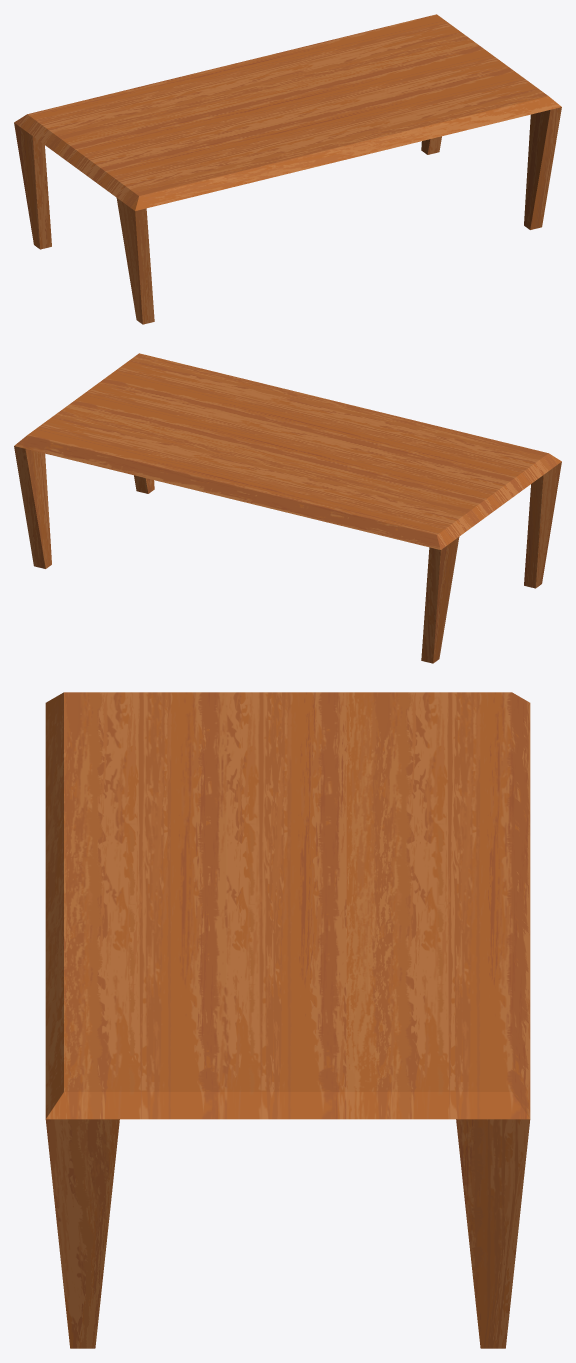
Rendered from Table.fbx.
The picture shows the model from 3 angles, top to bottom: view 1: azimuth 30°, elevation 25°; view 2: azimuth 150°, elevation 25°; view 3: azimuth 270°, elevation 25°; orthographic projection. The views are drawn at different scales.
Parts seen in each view (by area): view 1: Table; view 2: Table; view 3: Table.
Boxes of the visible parts, box(x1,y1,x2,y2) form: Table: box(14, 14, 561, 324); Table: box(14, 353, 561, 663); Table: box(45, 692, 530, 1348).
Bounding box in the file's own units: 11.8 × 3.46 × 5.8.
